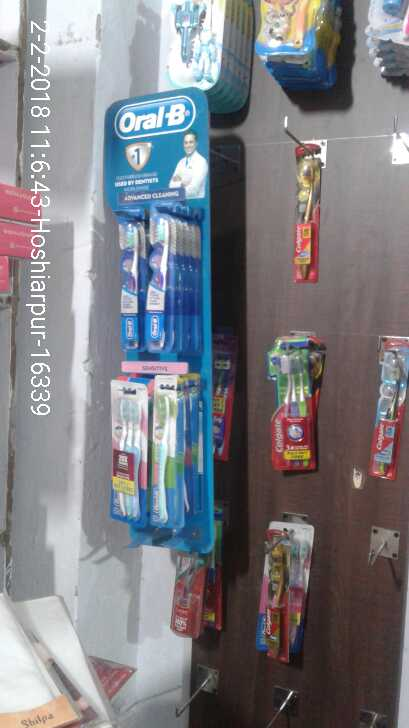oralb: (140, 207, 187, 358), (102, 383, 145, 519), (150, 388, 183, 523), (113, 216, 137, 349)
